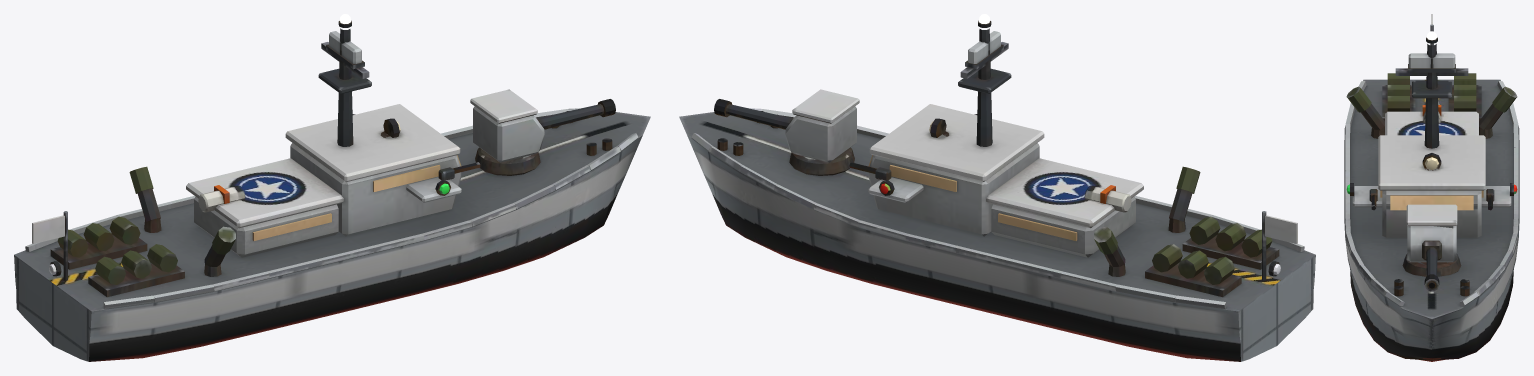
Rendered from pt.allies.glb.
3 renders of one model, left to right at view 1: azimuth 30°, elevation 25°; view 2: azimuth 150°, elevation 25°; view 3: azimuth 270°, elevation 25°, orthographic. The views are drawn at different scales.
Parts seen in each view (by area): view 1: hull_mesh, turret_mesh, b0_mesh, radar_mesh; view 2: hull_mesh, turret_mesh, b0_mesh, radar_mesh; view 3: hull_mesh, turret_mesh, radar_mesh, b0_mesh.
Part boxes in pixels (x1=…): hull_mesh: x1=14, y1=14, x2=650, y2=361; turret_mesh: x1=470, y1=89, x2=544, y2=175; b0_mesh: x1=537, y1=99, x2=615, y2=129; radar_mesh: x1=326, y1=31, x2=364, y2=69; hull_mesh: x1=679, y1=14, x2=1315, y2=361; turret_mesh: x1=785, y1=89, x2=859, y2=175; b0_mesh: x1=714, y1=99, x2=792, y2=129; radar_mesh: x1=965, y1=31, x2=1003, y2=69; hull_mesh: x1=1344, y1=14, x2=1519, y2=361; turret_mesh: x1=1402, y1=204, x2=1461, y2=276; radar_mesh: x1=1408, y1=53, x2=1455, y2=72; b0_mesh: x1=1424, y1=247, x2=1439, y2=291.
Size of the model in its own units: 0.951 by 0.405 by 0.265.
2 materials, 1 textured.
